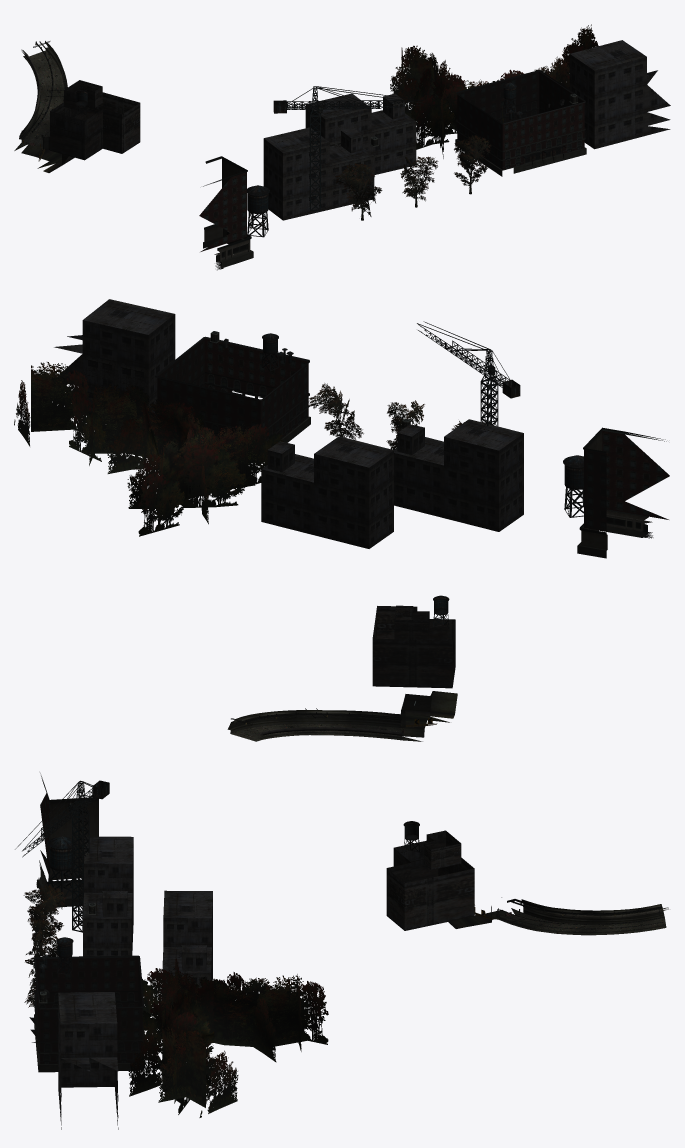
The model's file is cell_8_1.gltf.
3 renders of one model, top to bottom at view 1: azimuth 30°, elevation 25°; view 2: azimuth 150°, elevation 25°; view 3: azimuth 270°, elevation 25°, orthographic. The views are drawn at different scales.
Parts seen in each view (by area): view 1: cell_8_1; view 2: cell_8_1; view 3: cell_8_1.
Boxes of the visible parts, box(x1,y1,x2,y2) form: cell_8_1: box(14, 24, 670, 270); cell_8_1: box(14, 299, 669, 741); cell_8_1: box(15, 773, 668, 1129).
Bounding box in the file's own units: 274 × 89.85 × 268.
36 materials, 36 textured.
